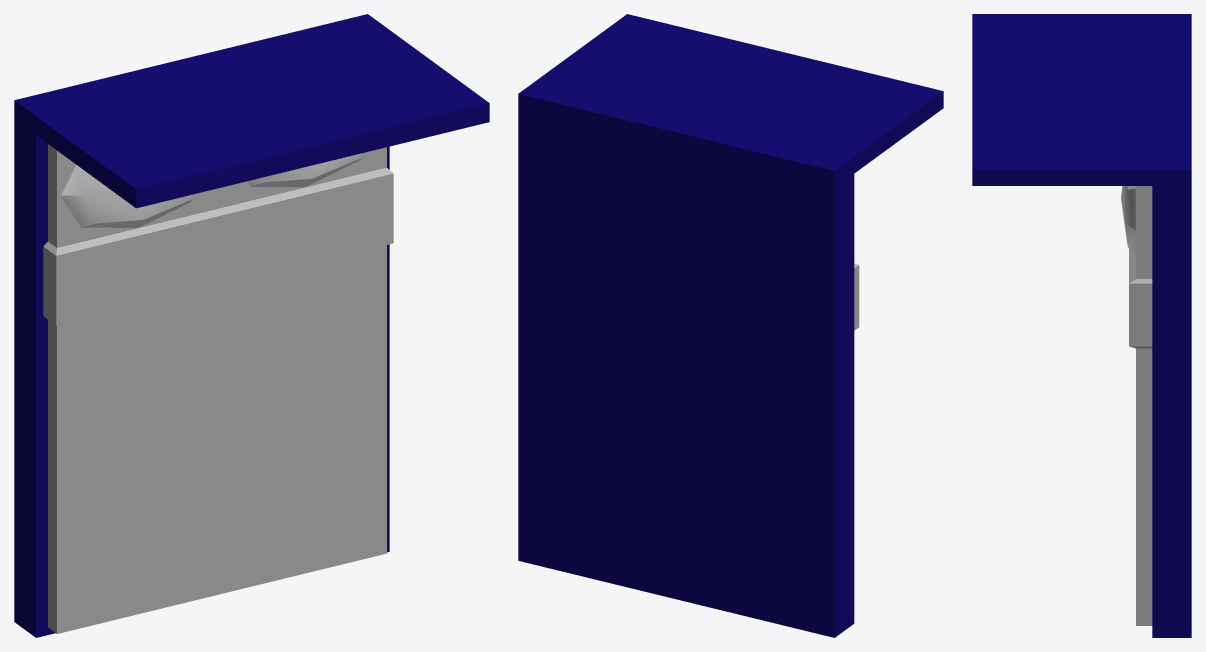
Rendered from bed.fbx.
3 views of the same model, side by side, from view 1: azimuth 30°, elevation 25°; view 2: azimuth 150°, elevation 25°; view 3: azimuth 270°, elevation 25° (orthographic). The views are drawn at different scales.
Visible parts, largest first — view 1: Cube.002; view 2: Cube.002; view 3: Cube.002.
Boxes of the visible parts, x1,y1,x2,y2 form: Cube.002: (14,14,489,637); Cube.002: (518,14,943,637); Cube.002: (972,14,1191,637).
Size of the model in its own units: 207 by 292 by 124.
